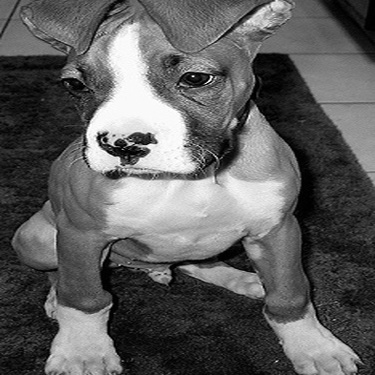dog: (7, 3, 370, 373)
